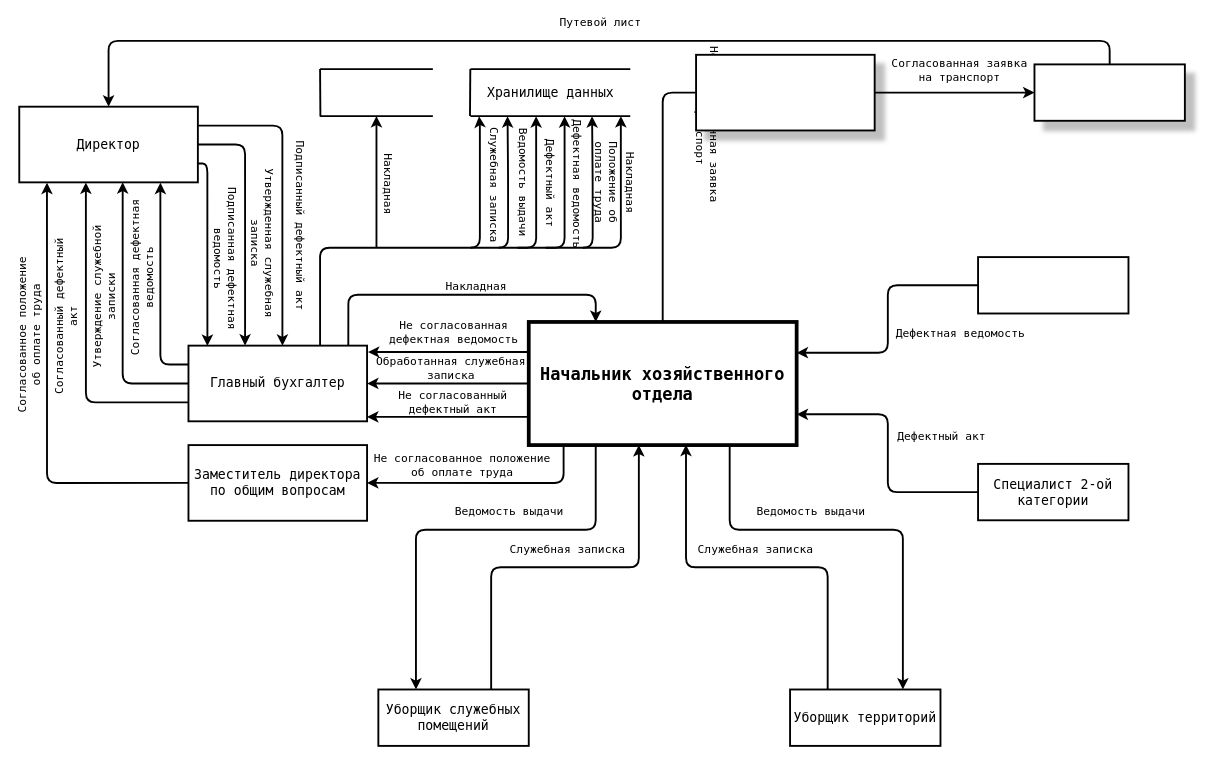
This 1215x763 diagram has some shape labels left out. Each missing label, with the centre of its shape:
"База данных 1C" belongs at point (376, 92).
"Специалист 1-ой категории" belongs at point (1053, 285).
"Управление культуры г.Сочи" belongs at point (789, 97).
"Центр Технического и Хозяйственного Обслуживания" belongs at point (1113, 96).
